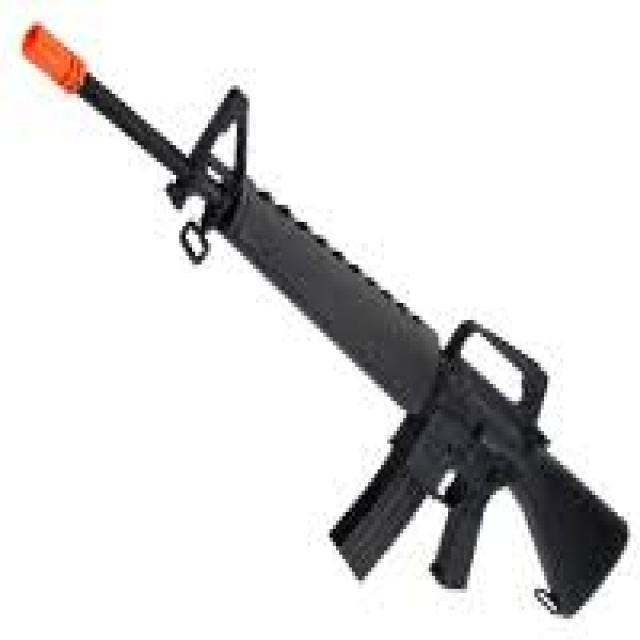rifle: (19, 18, 636, 623)
